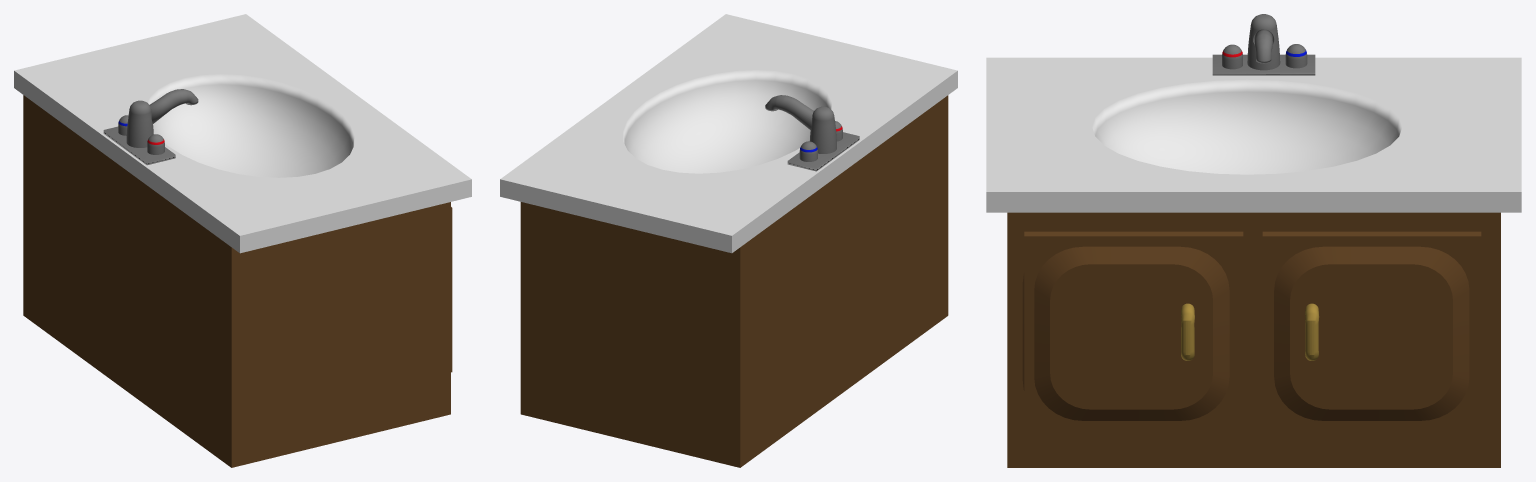
The model's file is Sink.fbx.
3 views of the same model, side by side, from view 1: azimuth 30°, elevation 25°; view 2: azimuth 150°, elevation 25°; view 3: azimuth 270°, elevation 25° (orthographic). The views are drawn at different scales.
Visible parts, largest first — view 1: Cube; view 2: Cube; view 3: Cube, Cube.004, Cube.003.
Boxes of the visible parts, bbox=[...] form: Cube: bbox=[14, 14, 471, 467]; Cube: bbox=[500, 14, 957, 467]; Cube: bbox=[986, 14, 1521, 467]; Cube.004: bbox=[1022, 231, 1243, 431]; Cube.003: bbox=[1262, 231, 1481, 431].
Bounding box in the file's own units: 415 × 466 × 669.
